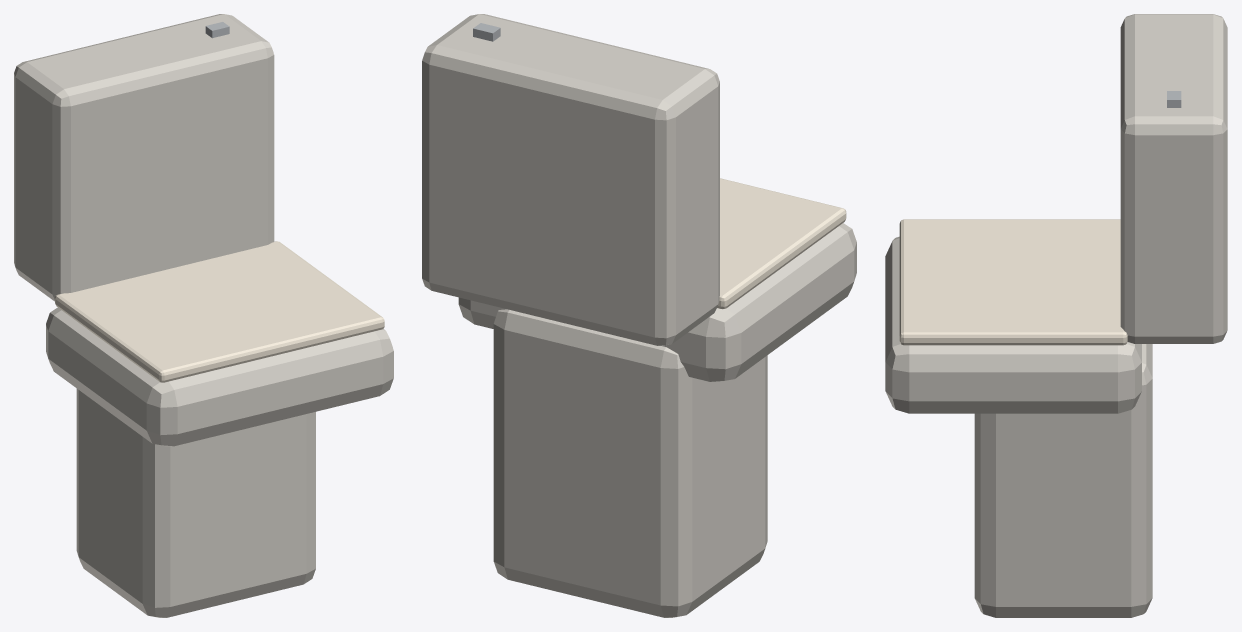
File: hh_toilet.glb
3 views of the same model, side by side, from view 1: azimuth 30°, elevation 25°; view 2: azimuth 150°, elevation 25°; view 3: azimuth 270°, elevation 25° (orthographic). The views are drawn at different scales.
Visible parts, largest first — view 1: tank, base, lid, bowl; view 2: tank, base, bowl, lid; view 3: base, tank, lid, bowl.
Boxes of the visible parts, x1=… form: tank: x1=14, y1=14, x2=274, y2=301; base: x1=76, y1=388, x2=315, y2=617; lid: x1=55, y1=241, x2=384, y2=382; bowl: x1=46, y1=307, x2=393, y2=446; tank: x1=422, y1=14, x2=719, y2=345; base: x1=493, y1=309, x2=767, y2=617; bowl: x1=458, y1=223, x2=856, y2=381; lid: x1=717, y1=178, x2=846, y2=309; base: x1=974, y1=344, x2=1152, y2=617; tank: x1=1120, y1=14, x2=1227, y2=343; lid: x1=899, y1=219, x2=1127, y2=345; bowl: x1=885, y1=236, x2=1141, y2=413.
Size of the model in its own units: 0.42 by 0.812 by 0.48.
